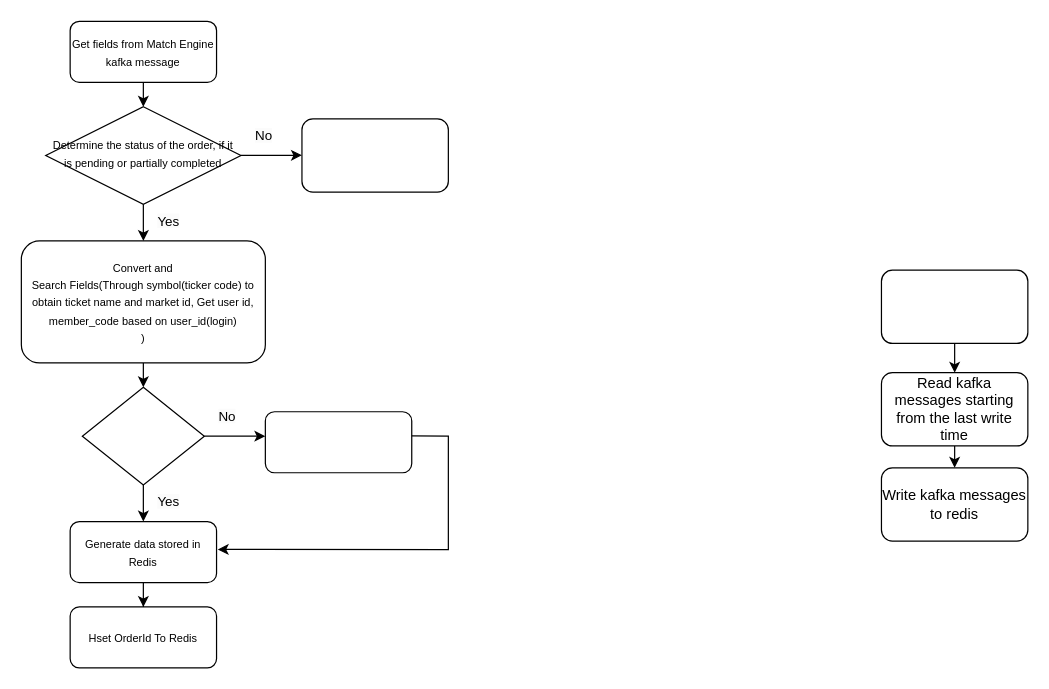
Some shapes in this 1049 by 689 pixel diagram are drawn without their labels. The centre of each missing label's shape, as x and y in pixels:
"Get the last updated time of Orders from the database" belongs at point (954, 306).
"HDel OrderId to Redis" belongs at point (374, 155).
"Query and update from database to Redis" belongs at point (338, 442).
"redis presence fields value?" belongs at point (142, 435).
